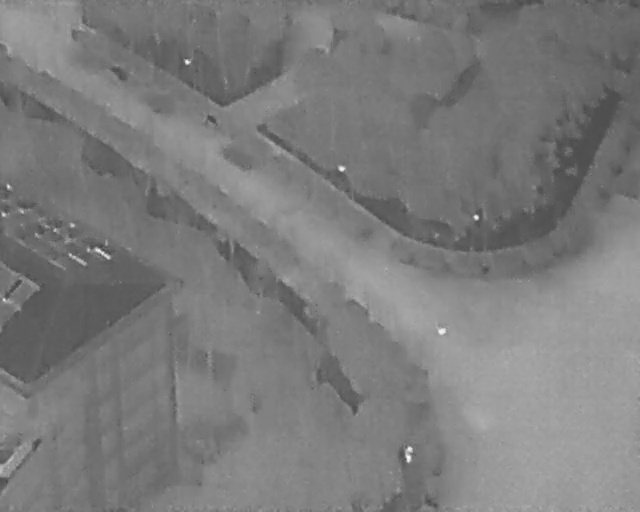Person: (404, 445, 413, 465)
